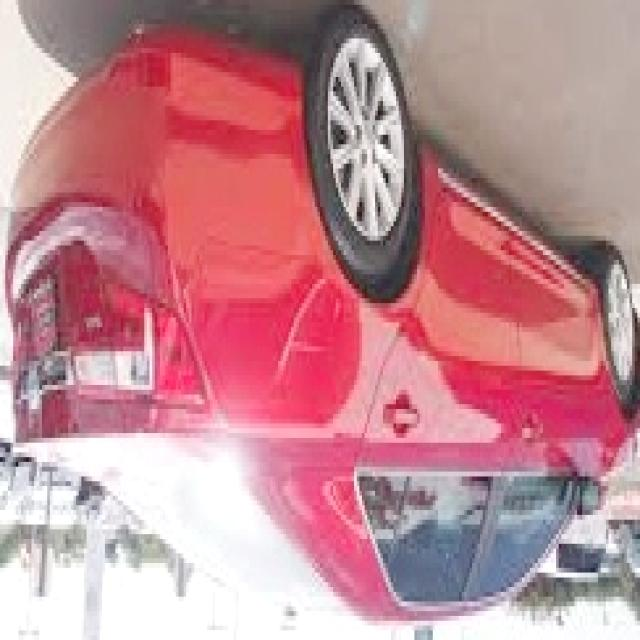red: (2, 39, 640, 640)
